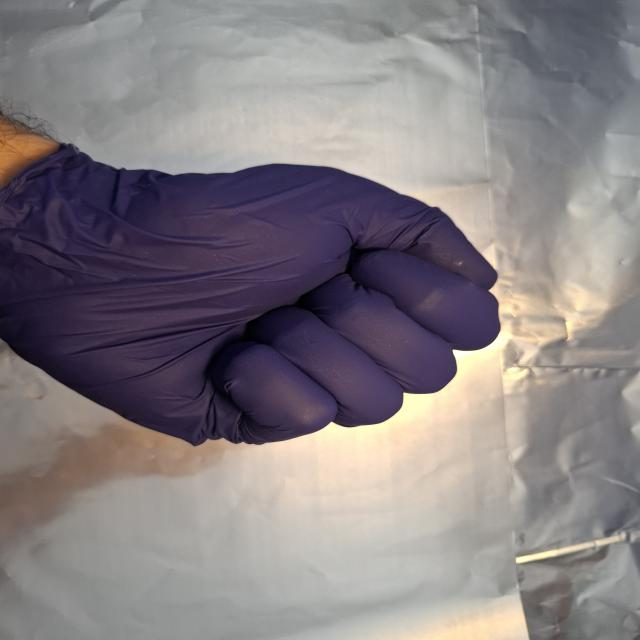glove_on: (0, 140, 509, 450)
